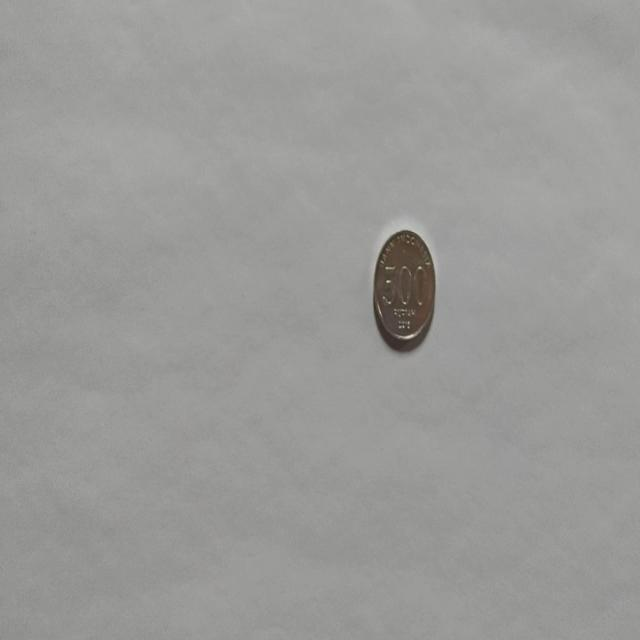lima ratus rupiah: (372, 228, 436, 346)
